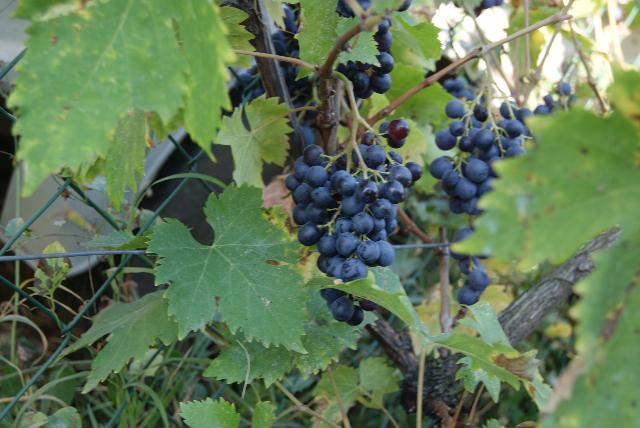grapes: (285, 134, 421, 282), (430, 99, 525, 215)
